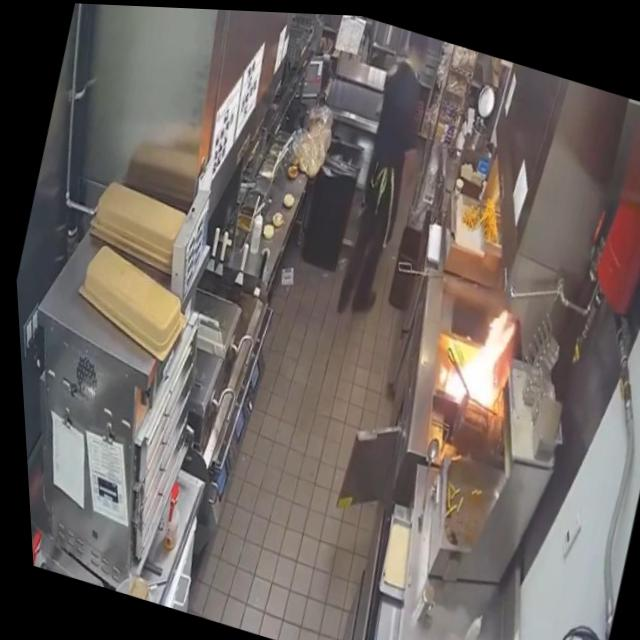fire: (425, 283, 527, 420)
